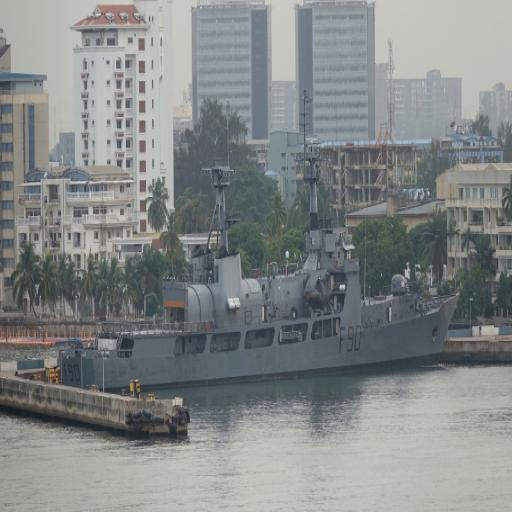Fragata: (57, 131, 464, 397)
